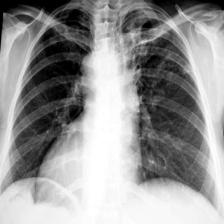tuberculosis: (0, 0, 223, 217)
